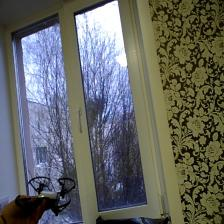drone: (14, 175, 78, 216)
